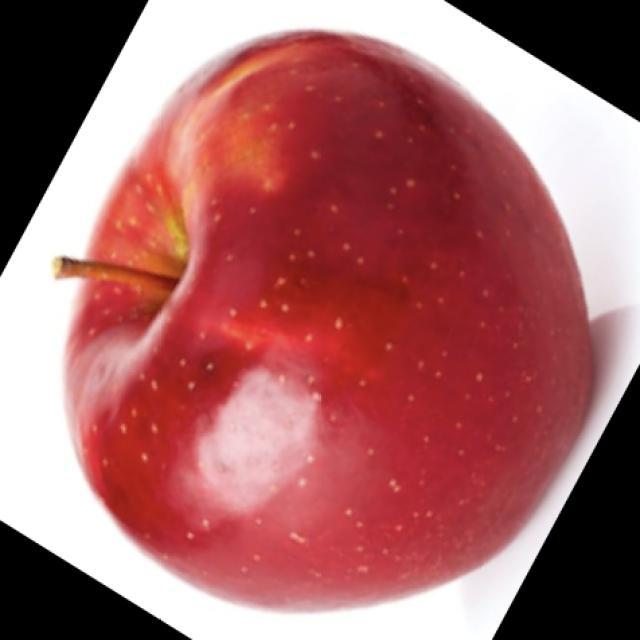Fresh Apple: (44, 34, 628, 608)
